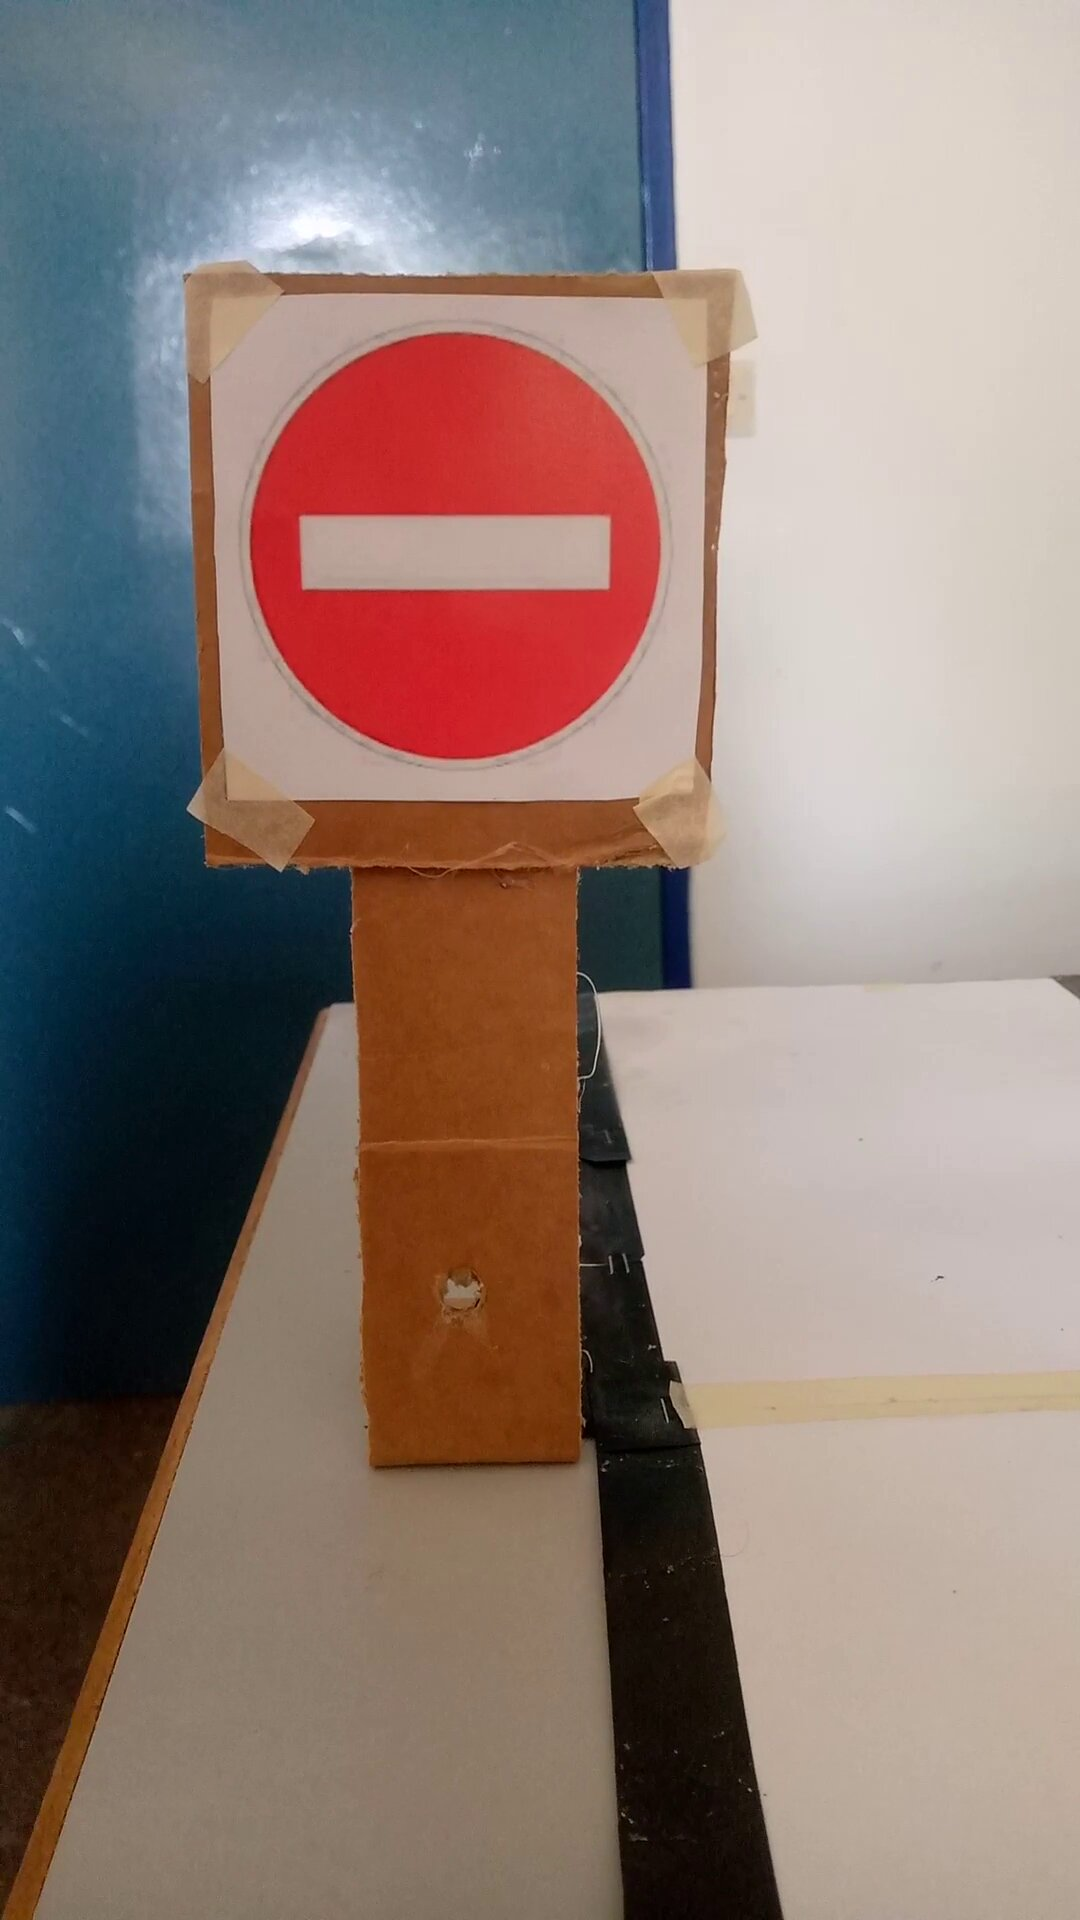panel010: (204, 301, 707, 803)
